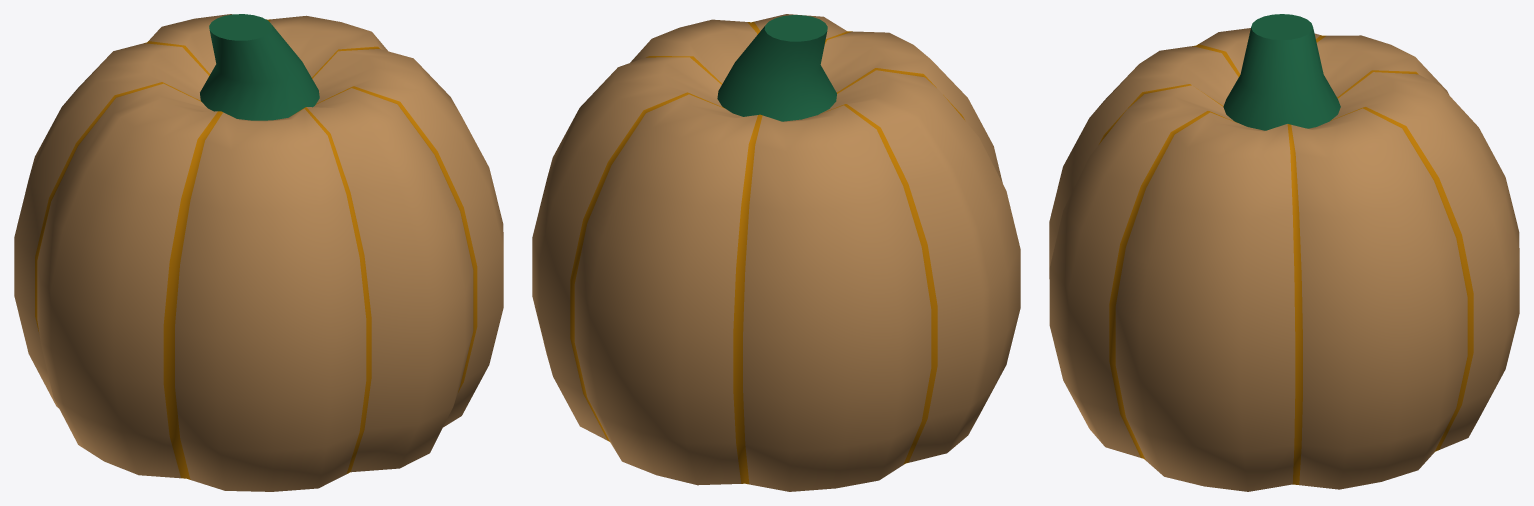
The model's file is Pumpkin.fbx.
3 renders of one model, left to right at view 1: azimuth 30°, elevation 25°; view 2: azimuth 150°, elevation 25°; view 3: azimuth 270°, elevation 25°, orthographic. The views are drawn at different scales.
Visible parts, largest first — view 1: pSphere1, pCylinder4; view 2: pSphere1, pCylinder4; view 3: pSphere1, pCylinder4.
Boxes of the visible parts, x1,y1,x2,y2 form: pSphere1: [14, 14, 503, 491]; pCylinder4: [200, 14, 319, 120]; pSphere1: [532, 14, 1020, 491]; pCylinder4: [717, 15, 836, 121]; pSphere1: [1049, 28, 1519, 491]; pCylinder4: [1223, 14, 1340, 130].
Bounding box in the file's own units: 1.91 × 1.75 × 1.89.
